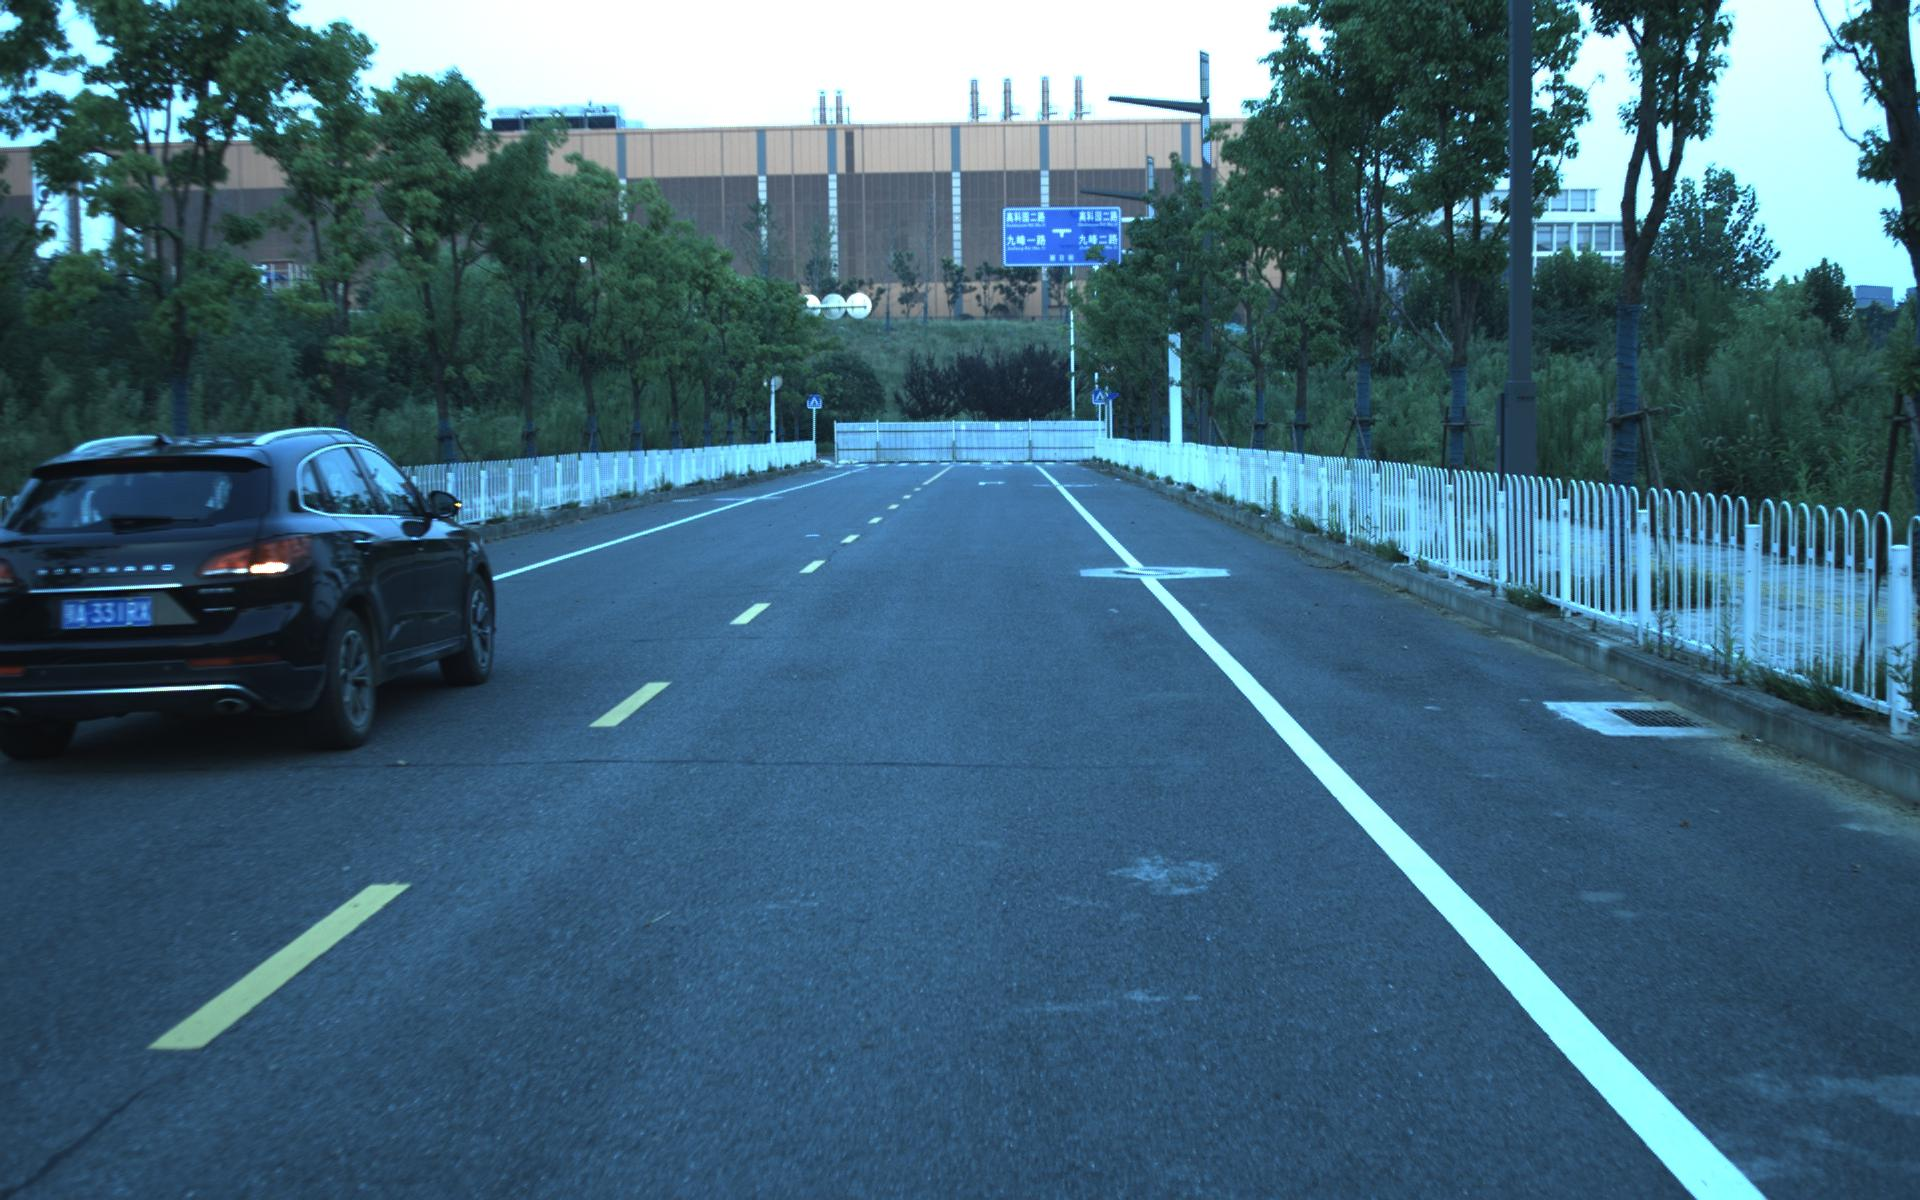Car: (3, 412, 502, 765)
